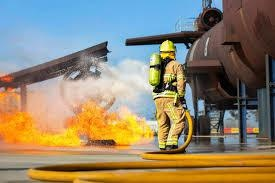fire: (0, 93, 154, 148)
